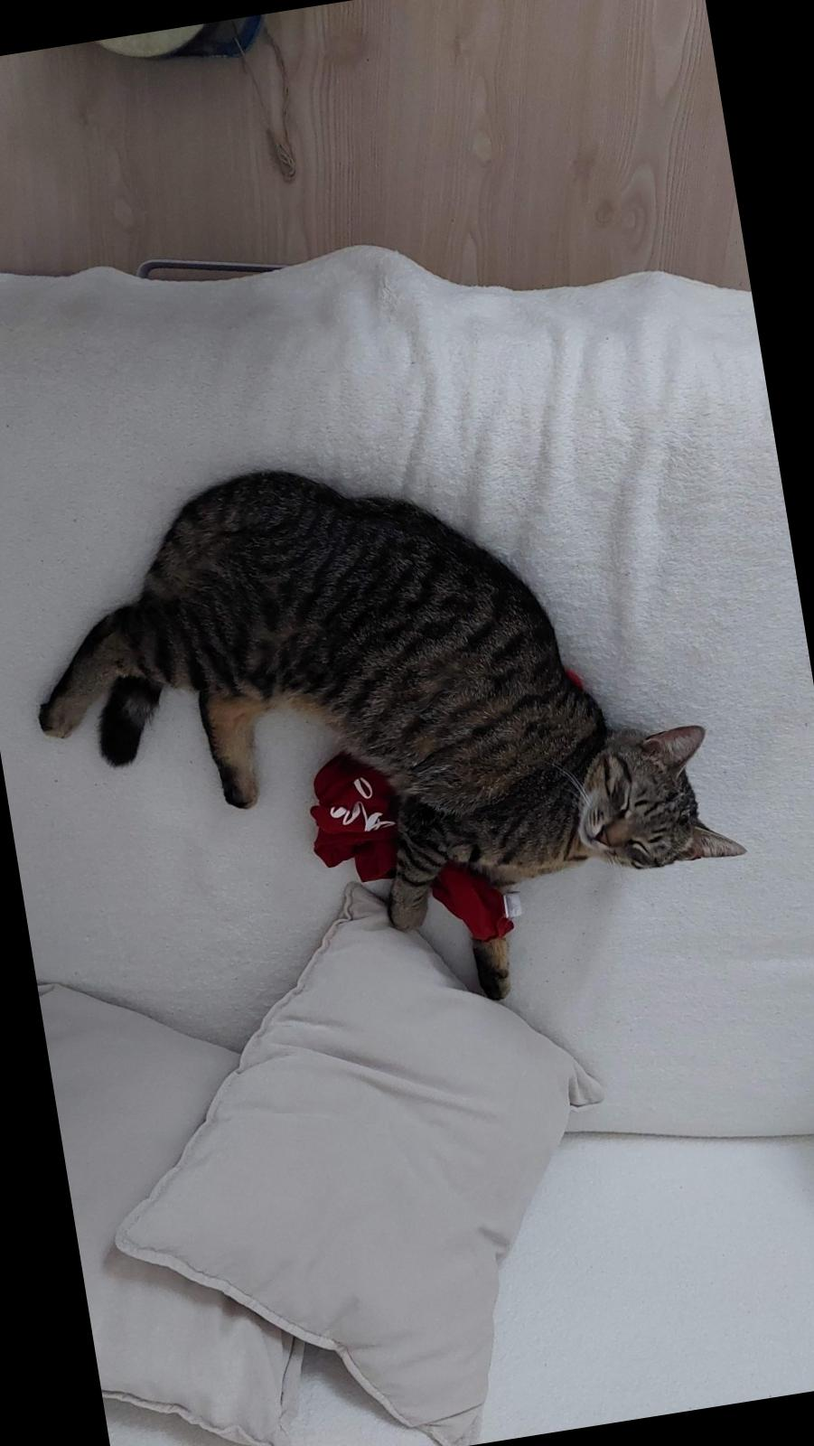macka: (1, 401, 762, 1066)
